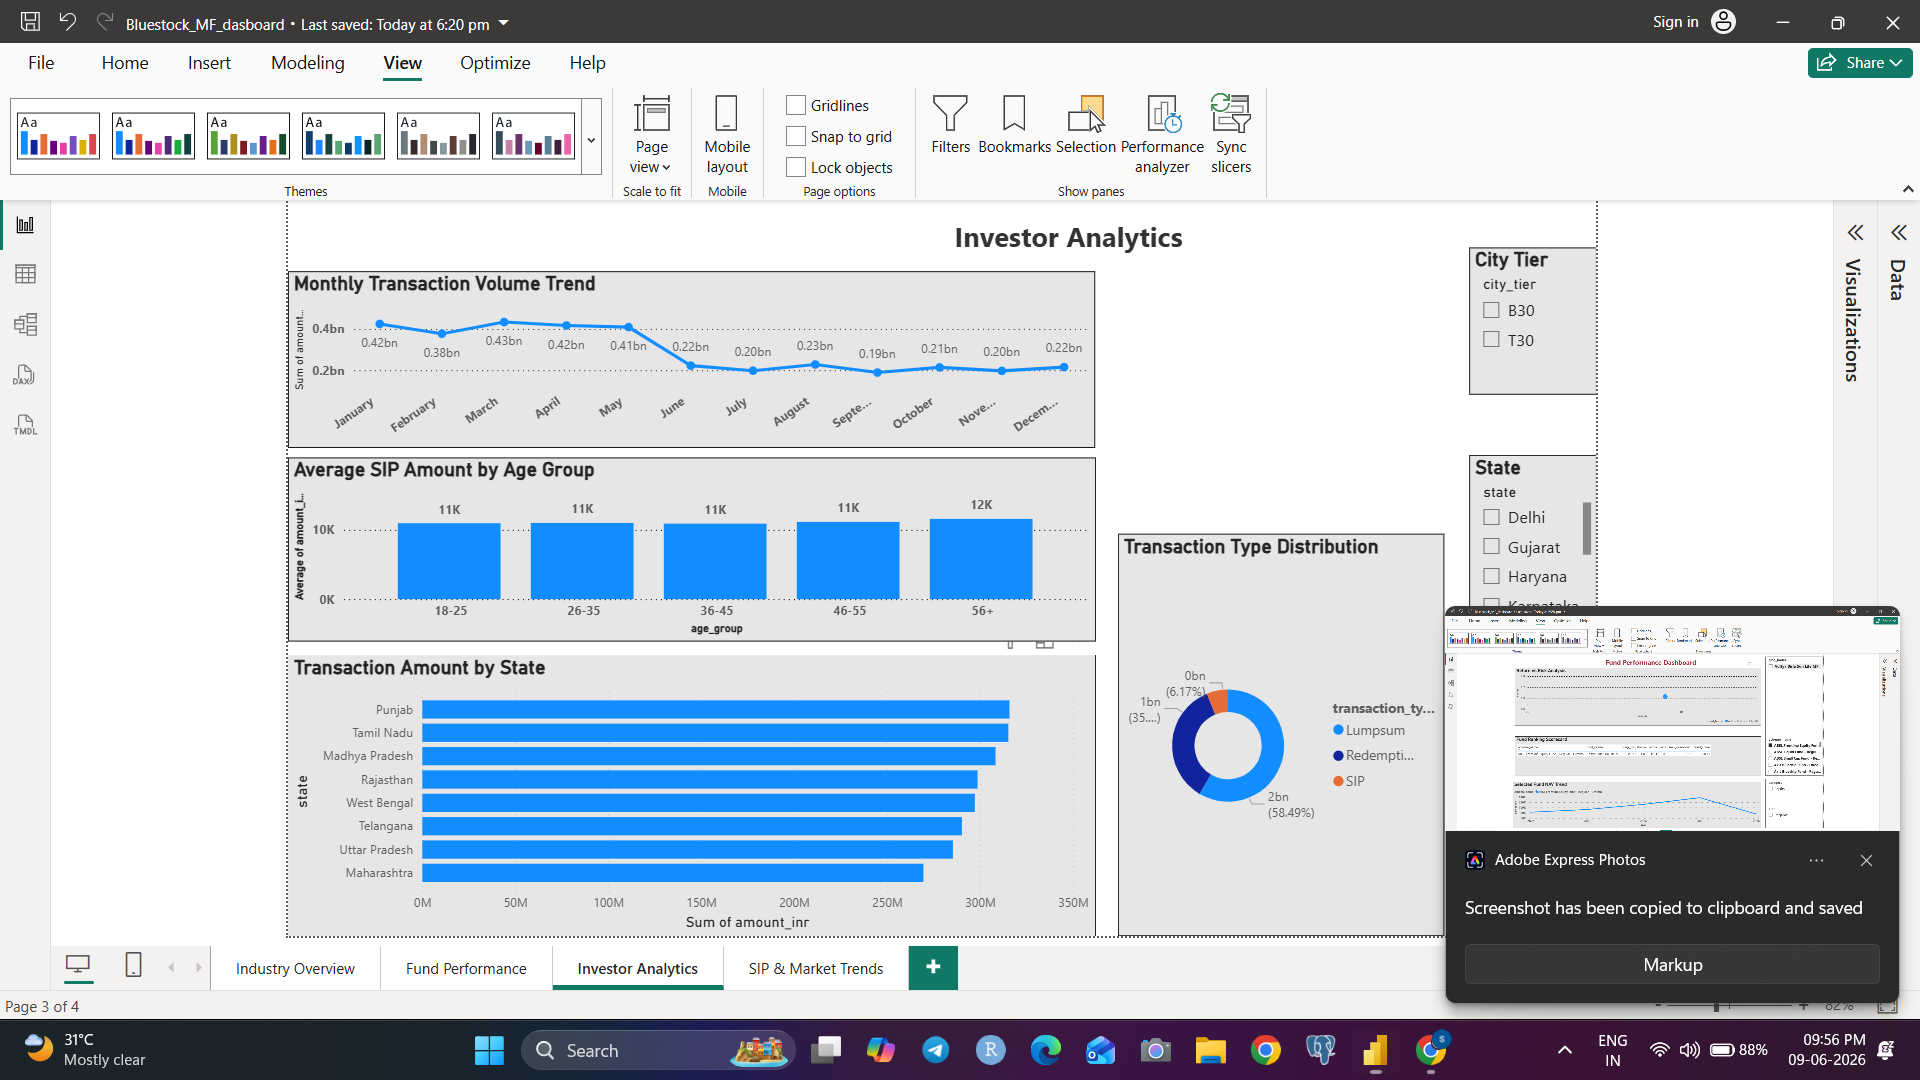

This screenshot's page, from the dashboard's own definition file:
{"tool":"powerbi","page":{"name":"Investor Analytics","canvas":[1280,720],"ordinal":2},"visuals":[{"type":"clusteredBarChart","title":"Transaction Amount by State","fields":{"Category":["08_investor_transactions.state"],"Y":["Sum(08_investor_transactions.amount_inr)"]},"box":[0,444.6,790.4,275.8],"z":0},{"type":"donutChart","title":"Transaction Type Distribution","fields":{"Category":["08_investor_transactions.transaction_type"],"Y":["Sum(08_investor_transactions.amount_inr)"]},"box":[812,326.5,319.2,393.8],"z":1000},{"type":"clusteredColumnChart","title":"Average SIP Amount by Age Group","fields":{"Category":["08_investor_transactions.age_group"],"Y":["Avg(08_investor_transactions.amount_inr)"]},"box":[0,252.5,790.4,179.8],"z":2000},{"type":"lineChart","title":"Monthly Transaction Volume Trend","fields":{"Category":["investor_transactions.transaction_date.Variation.Date Hierarchy.Month"],"Y":["Sum(investor_transactions.amount_inr)"]},"box":[0,69.7,789.9,172.4],"z":3000},{"type":"slicer","title":"State","fields":{"Values":["investor_transactions.state"]},"box":[1155.6,249.5,124.7,185.9],"z":4000},{"type":"slicer","title":"Age Group","fields":{"Values":["investor_transactions.age_group"]},"box":[1155.6,518.5,124.7,201.8],"z":5000},{"type":"slicer","title":"City Tier","fields":{"Values":["investor_transactions.city_tier"]},"box":[1155.6,46.5,124.7,144.3],"z":6000},{"type":"textbox","box":[459.8,12.2,607.7,45.2],"z":7000}]}

Visuals, with their boxes on the page's 1280x720 design canvas (x1, y1, x2, y2). These are canvas units, not pixel positions in the 1920x1080 screenshot, which may show the page scaled, cropped or inside an application window:
"Transaction Amount by State" clusteredBarChart: bbox=(0, 445, 790, 720)
"Transaction Type Distribution" donutChart: bbox=(812, 326, 1131, 720)
"Average SIP Amount by Age Group" clusteredColumnChart: bbox=(0, 252, 790, 432)
"Monthly Transaction Volume Trend" lineChart: bbox=(0, 70, 790, 242)
"State" slicer: bbox=(1156, 250, 1280, 435)
"Age Group" slicer: bbox=(1156, 518, 1280, 720)
"City Tier" slicer: bbox=(1156, 46, 1280, 191)
textbox: bbox=(460, 12, 1068, 57)
